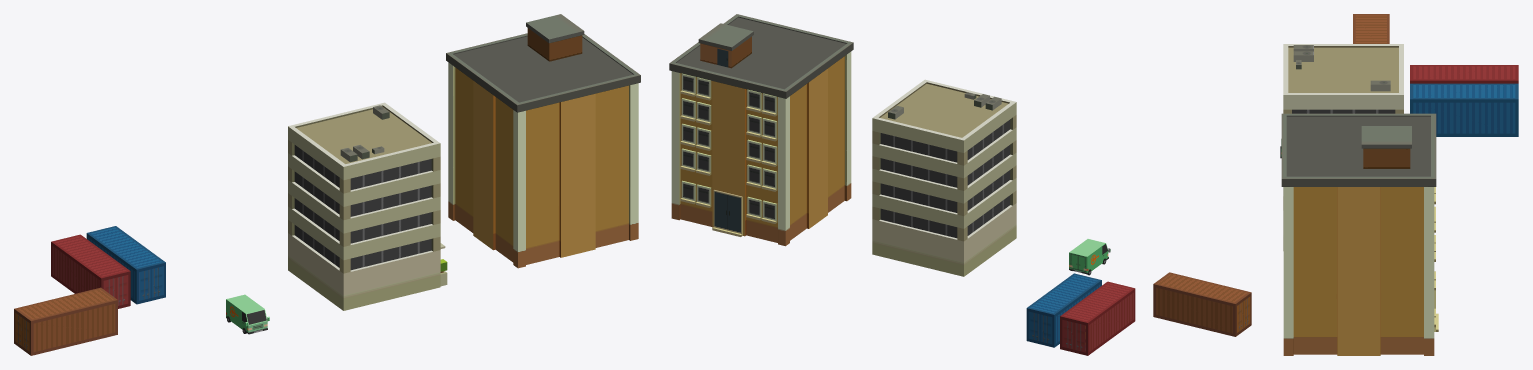
Rendered from IndustryTopRight_subset.FBX.
3 views of the same model, side by side, from view 1: azimuth 30°, elevation 25°; view 2: azimuth 150°, elevation 25°; view 3: azimuth 270°, elevation 25° (orthographic). The views are drawn at different scales.
Parts seen in each view (by area): view 1: Building_ApartmentLarge_Brown, Building_OfficeMedium_Brown, SM_Prop_Container_03, SM_Prop_Container_01, SM_Prop_Container_02, van_seperate_green; view 2: Building_ApartmentLarge_Brown, Building_OfficeMedium_Brown, SM_Prop_Container_03, SM_Prop_Container_01, SM_Prop_Container_02, van_seperate_green; view 3: Building_ApartmentLarge_Brown, Building_OfficeMedium_Brown, SM_Prop_Container_02, SM_Prop_Container_01, SM_Prop_Container_03.
Boxes of the visible parts, left/top/right/bottom form: Building_ApartmentLarge_Brown: left=446, top=14, right=640, bottom=268; Building_OfficeMedium_Brown: left=288, top=102, right=447, bottom=310; SM_Prop_Container_03: left=14, top=287, right=117, bottom=355; SM_Prop_Container_01: left=51, top=234, right=130, bottom=308; SM_Prop_Container_02: left=86, top=226, right=165, bottom=304; van_seperate_green: left=226, top=294, right=269, bottom=334; Building_ApartmentLarge_Brown: left=669, top=14, right=853, bottom=246; Building_OfficeMedium_Brown: left=872, top=79, right=1016, bottom=276; SM_Prop_Container_03: left=1153, top=272, right=1251, bottom=336; SM_Prop_Container_01: left=1060, top=281, right=1135, bottom=355; SM_Prop_Container_02: left=1026, top=273, right=1101, bottom=347; van_seperate_green: left=1069, top=239, right=1110, bottom=275; Building_ApartmentLarge_Brown: left=1281, top=113, right=1438, bottom=355; Building_OfficeMedium_Brown: left=1283, top=44, right=1403, bottom=250; SM_Prop_Container_02: left=1410, top=83, right=1518, bottom=136; SM_Prop_Container_01: left=1410, top=65, right=1518, bottom=83; SM_Prop_Container_03: left=1353, top=14, right=1389, bottom=43.
Size of the model in its own units: 81476 by 25342 by 26910.
Materials: 4 (4 with a texture image).
